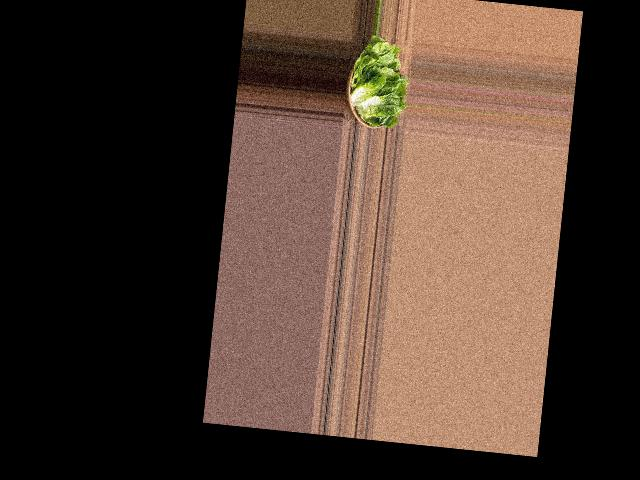lettuce: (342, 34, 411, 134)
